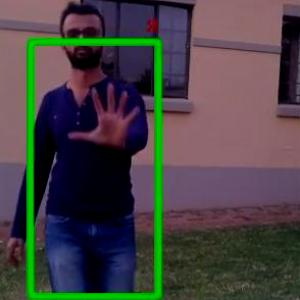follow_hand: (65, 79, 145, 150)
